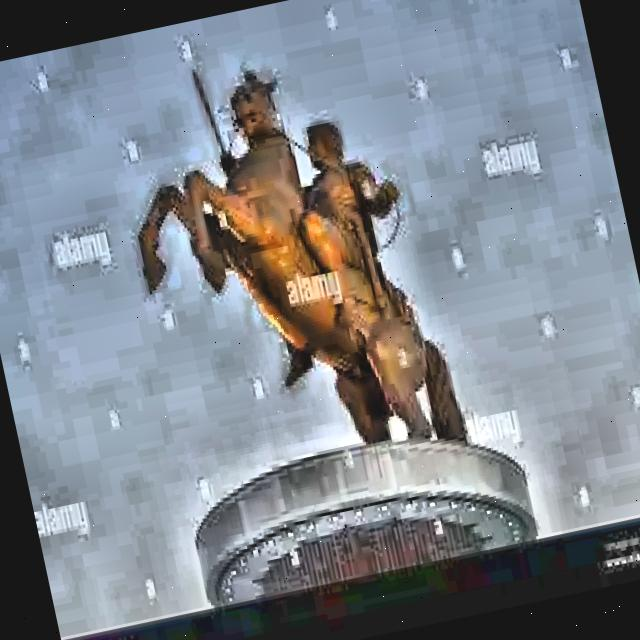alexander the great monument: (93, 18, 540, 605)
